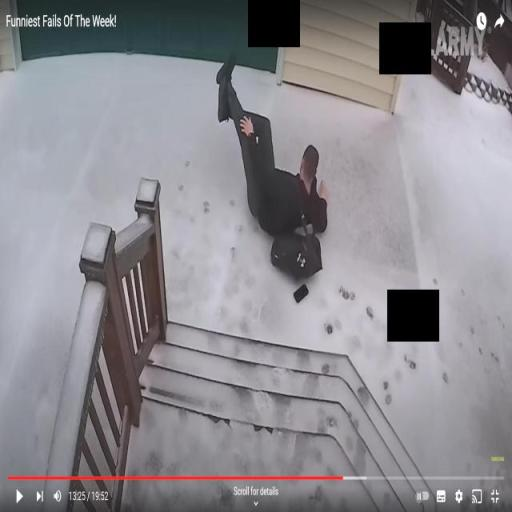Fall: (215, 46, 331, 240)
